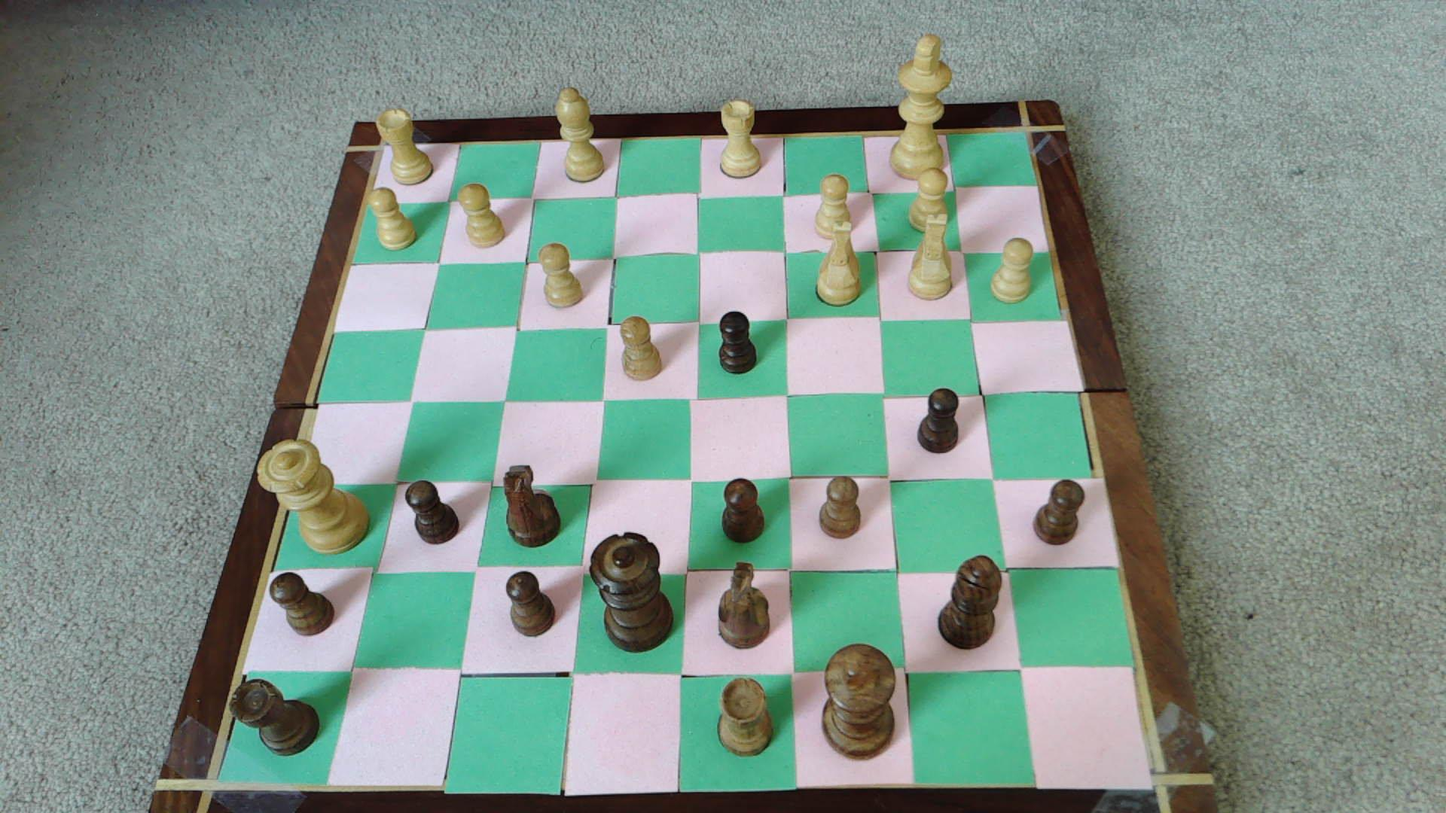dark_piece: (590, 533, 672, 651), (824, 644, 895, 757), (232, 679, 319, 754), (939, 555, 1001, 649), (503, 465, 560, 548), (718, 562, 770, 648), (718, 676, 773, 755), (270, 572, 334, 635), (406, 481, 459, 543), (1033, 480, 1084, 544), (506, 571, 554, 635), (722, 478, 765, 542), (917, 388, 959, 452), (819, 477, 861, 537), (719, 311, 757, 373)
white_piece: (258, 440, 368, 551), (889, 32, 954, 179), (554, 87, 606, 182), (377, 108, 435, 185), (908, 213, 953, 299), (719, 99, 763, 178), (816, 230, 861, 305), (458, 183, 506, 247), (369, 188, 417, 250), (990, 237, 1033, 304), (540, 242, 584, 307), (907, 169, 949, 233), (620, 316, 662, 379), (814, 174, 853, 240)
